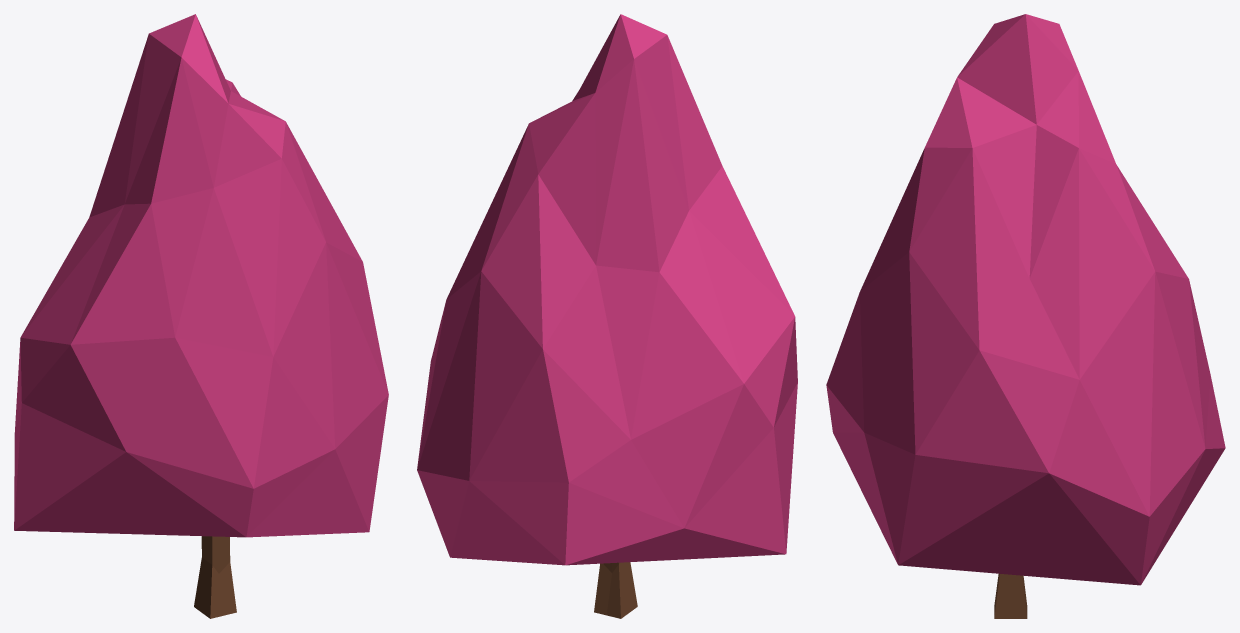
The model's file is Tree_11_Pink.fbx.
3 renders of one model, left to right at view 1: azimuth 30°, elevation 25°; view 2: azimuth 150°, elevation 25°; view 3: azimuth 270°, elevation 25°, orthographic.
Parts seen in each view (by area): view 1: Tree_11_Pink_Part_1, Tree_11_Pink_Part_2; view 2: Tree_11_Pink_Part_1, Tree_11_Pink_Part_2; view 3: Tree_11_Pink_Part_1, Tree_11_Pink_Part_2.
Part boxes in pixels (bbox=[...]): Tree_11_Pink_Part_1: bbox=[14, 14, 388, 537]; Tree_11_Pink_Part_2: bbox=[194, 536, 236, 618]; Tree_11_Pink_Part_1: bbox=[417, 14, 797, 565]; Tree_11_Pink_Part_2: bbox=[594, 562, 637, 618]; Tree_11_Pink_Part_1: bbox=[826, 14, 1225, 585]; Tree_11_Pink_Part_2: bbox=[994, 573, 1027, 618].
Size of the model in its own units: 483 by 790 by 483.
